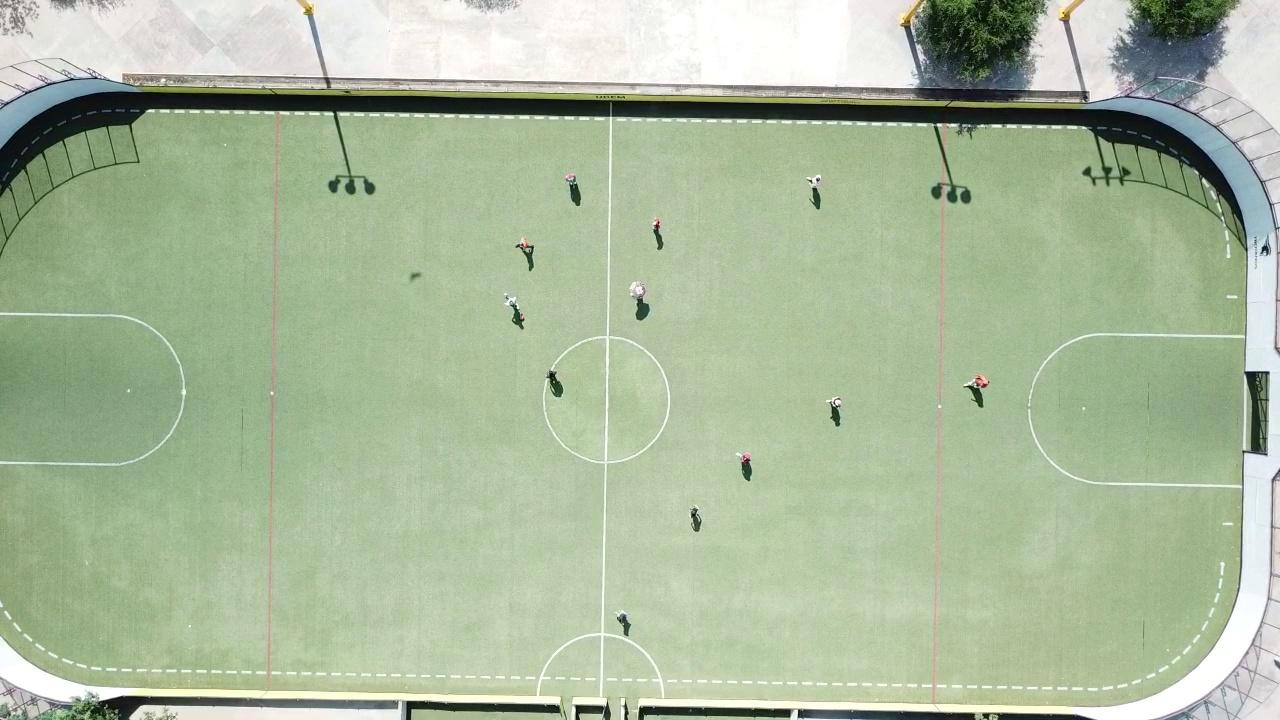ball: (520, 316, 524, 321)
player: (963, 375, 988, 389), (629, 281, 646, 301), (515, 237, 534, 254), (504, 293, 518, 310), (806, 174, 821, 189), (615, 611, 629, 625), (736, 452, 751, 465), (689, 505, 700, 522), (828, 396, 841, 409), (546, 369, 557, 384), (565, 173, 576, 186), (652, 217, 660, 231)
